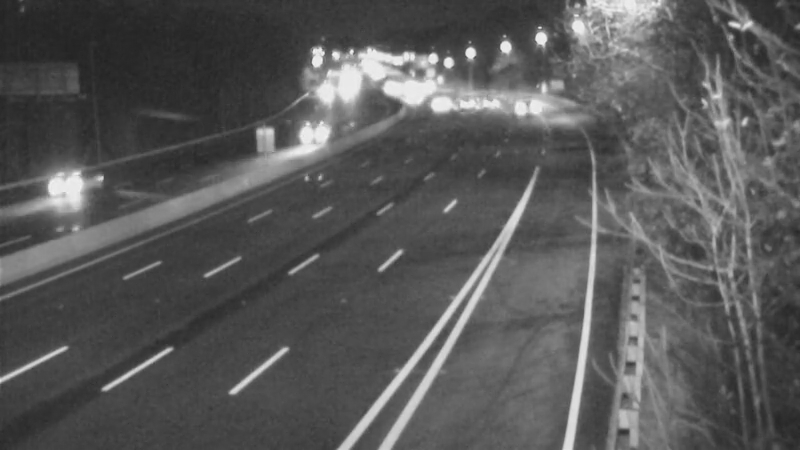vehicle: (22, 147, 102, 227), (388, 73, 438, 123), (409, 76, 459, 126), (468, 79, 518, 129), (433, 80, 483, 130), (501, 89, 551, 139), (296, 117, 346, 167)
